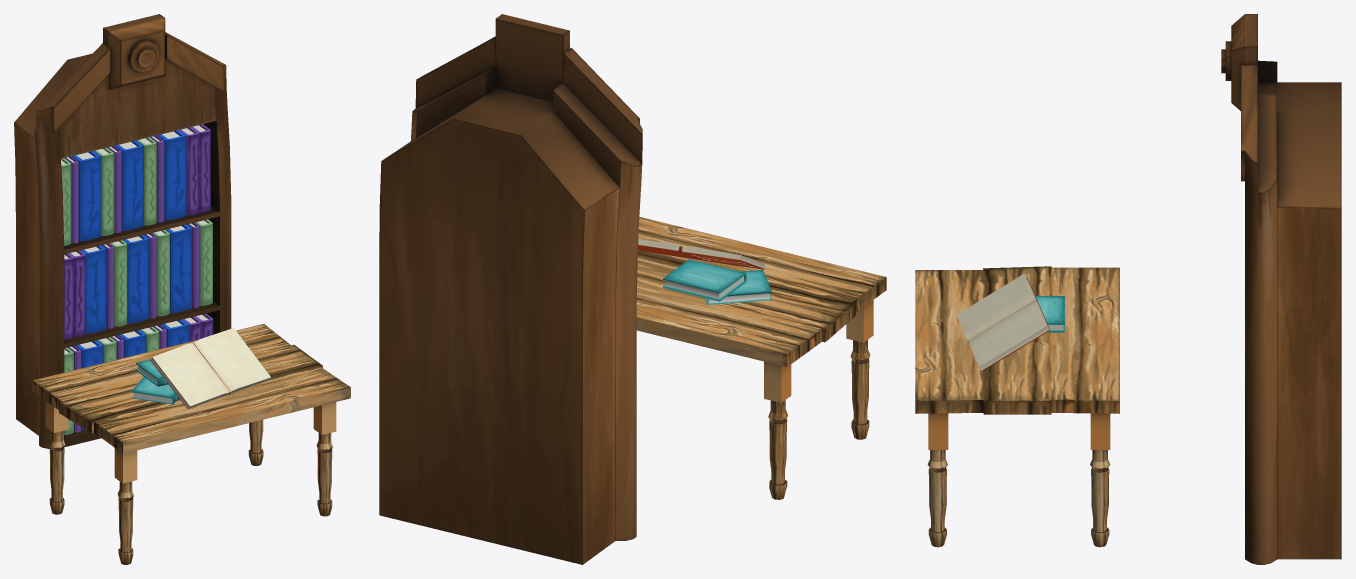
The model's file is shelf_table.FBX.
3 renders of one model, left to right at view 1: azimuth 30°, elevation 25°; view 2: azimuth 150°, elevation 25°; view 3: azimuth 270°, elevation 25°, orthographic. The views are drawn at different scales.
Parts seen in each view (by area): view 1: bookshelf, table_journal2, book041, book036, book043, book044, book045, book040, journal_second_up, journal_second_down, book039, book048 (+7 smaller); view 2: bookshelf, table_journal2, book028, book035, journal_second_up; view 3: bookshelf, table_journal2, journal_second_down, journal_second_up, book028.
Part boxes in pixels (x1,y1,x2,y2): bookshelf: [14, 14, 231, 448]; table_journal2: [32, 324, 350, 564]; book041: [137, 130, 186, 225]; book036: [94, 140, 143, 235]; book043: [165, 219, 212, 312]; book044: [123, 230, 169, 323]; book045: [80, 240, 127, 333]; book040: [61, 151, 100, 245]; journal_second_up: [150, 342, 230, 408]; journal_second_down: [192, 328, 270, 393]; book039: [179, 127, 198, 215]; book048: [64, 340, 103, 435]; bookshelf: [379, 14, 642, 564]; table_journal2: [636, 217, 886, 499]; book028: [663, 259, 746, 301]; book035: [704, 270, 771, 304]; journal_second_up: [681, 246, 764, 269]; bookshelf: [1221, 14, 1341, 564]; table_journal2: [915, 266, 1119, 547]; journal_second_down: [968, 300, 1049, 370]; journal_second_up: [956, 274, 1037, 342]; book028: [1035, 296, 1064, 332].
Bounding box in the file's own units: 183 × 275 × 221.
